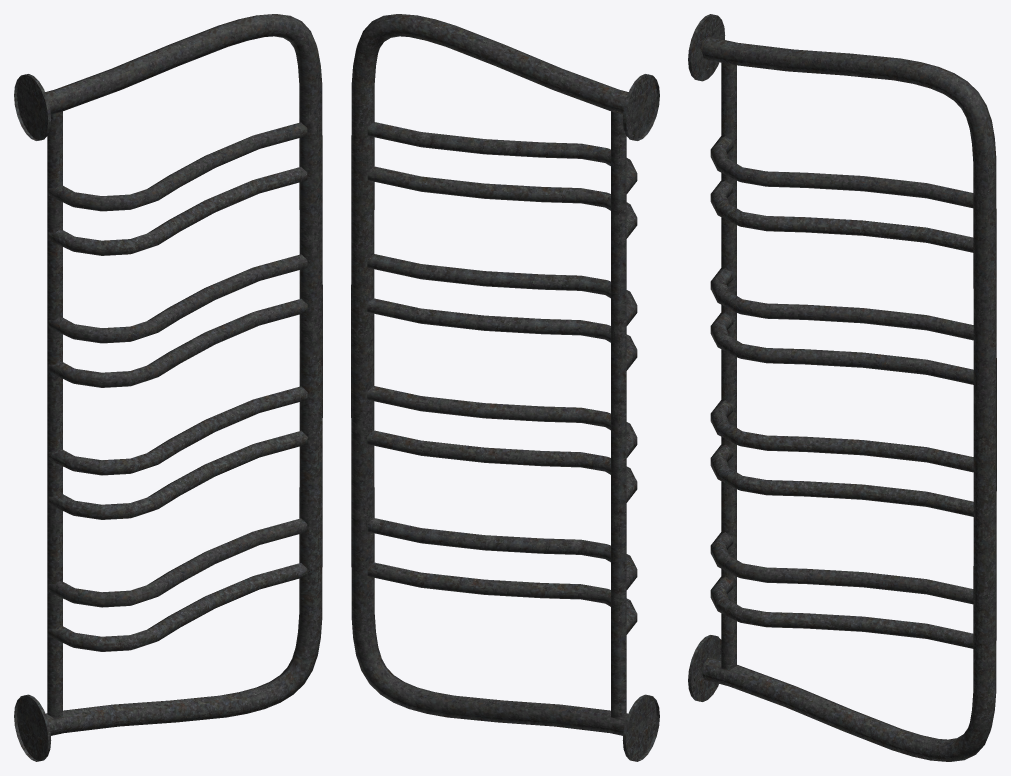
Rendered from cP_BikeRack03.dae.
3 renders of one model, left to right at view 1: azimuth 30°, elevation 25°; view 2: azimuth 150°, elevation 25°; view 3: azimuth 330°, elevation 25°, orthographic.
Visible parts, largest first — view 1: cP_BikeRack03.001; view 2: cP_BikeRack03.001; view 3: cP_BikeRack03.001.
Part boxes in pixels (x1,y1,x2,y2): cP_BikeRack03.001: (14,14,322,761); cP_BikeRack03.001: (351,14,659,761); cP_BikeRack03.001: (688,14,996,761).
Bounding box in the file's own units: 1.32 × 0.4115 × 3.01.
